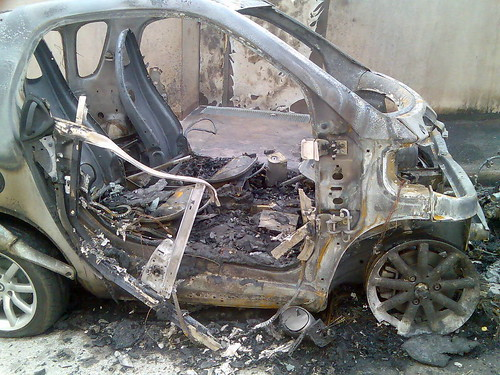car: (1, 1, 486, 347)
